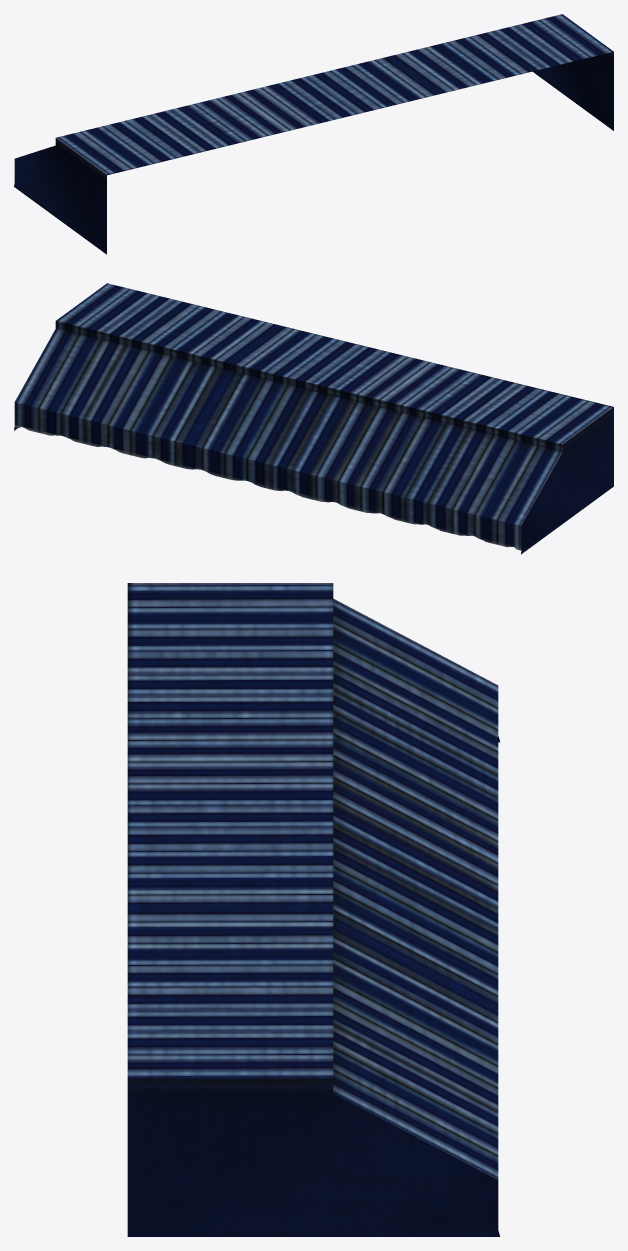
Rendered from Awning_02.FBX.
3 renders of one model, top to bottom at view 1: azimuth 30°, elevation 25°; view 2: azimuth 150°, elevation 25°; view 3: azimuth 270°, elevation 25°, orthographic. The views are drawn at different scales.
Visible parts, largest first — view 1: Awning003; view 2: Awning003; view 3: Awning003.
Part boxes in pixels (<box>): Awning003: <box>14,14,613,254</box>; Awning003: <box>14,283,613,554</box>; Awning003: <box>127,583,499,1236</box>.
Bounding box in the file's own units: 114 × 17.16 × 36.39.
